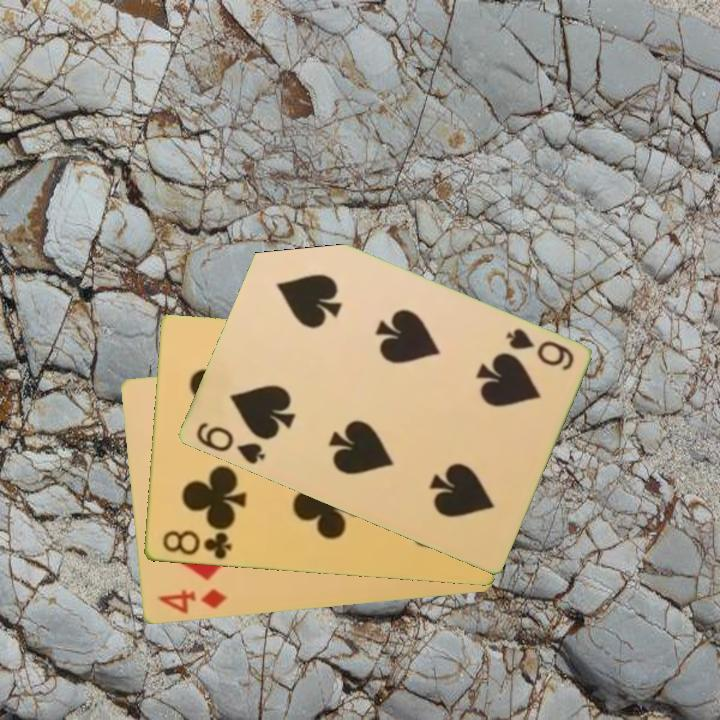4d: (153, 586, 230, 617)
6s: (191, 419, 268, 468), (501, 325, 577, 374)
8c: (159, 527, 234, 563)
